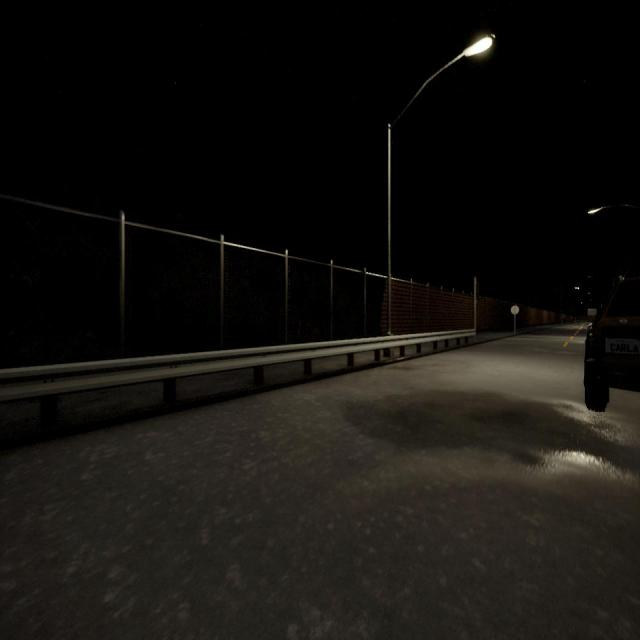Traffic_Signs: (511, 305, 519, 315)
Vehicle: (584, 277, 640, 411)
